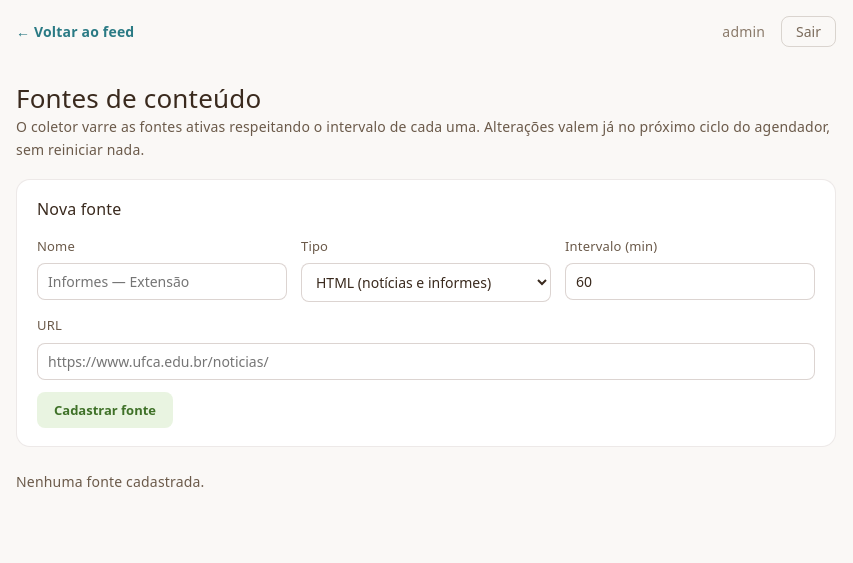
Scenario: Fontes — cadastro › mostra o erro de validação vindo do backend
Expected: the text "Nenhuma fonte cadastrada." is shown, [16,472,204,491]
Type "X" into the field labelled "Nome" at (162, 282), box [37,263,287,300]
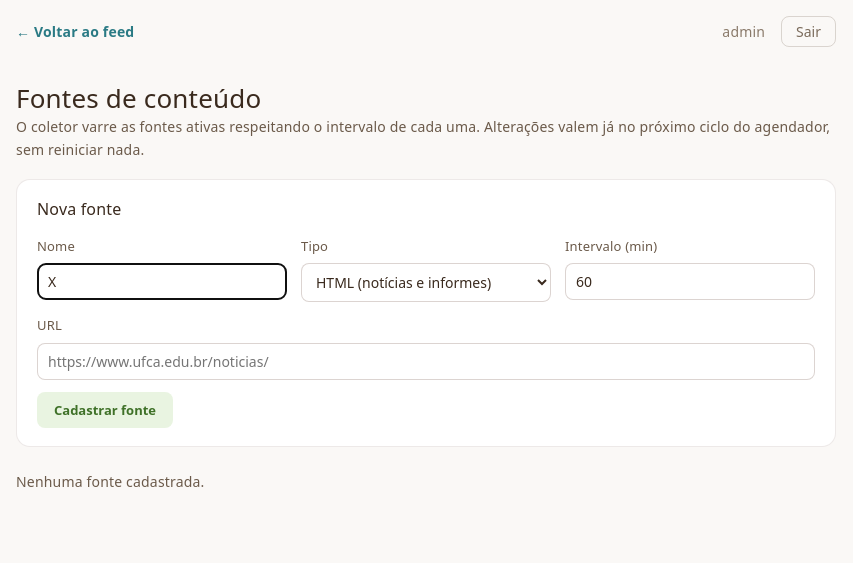
Type "https://x.test/" into the field labelled "URL" at (426, 361), box [37,343,815,380]
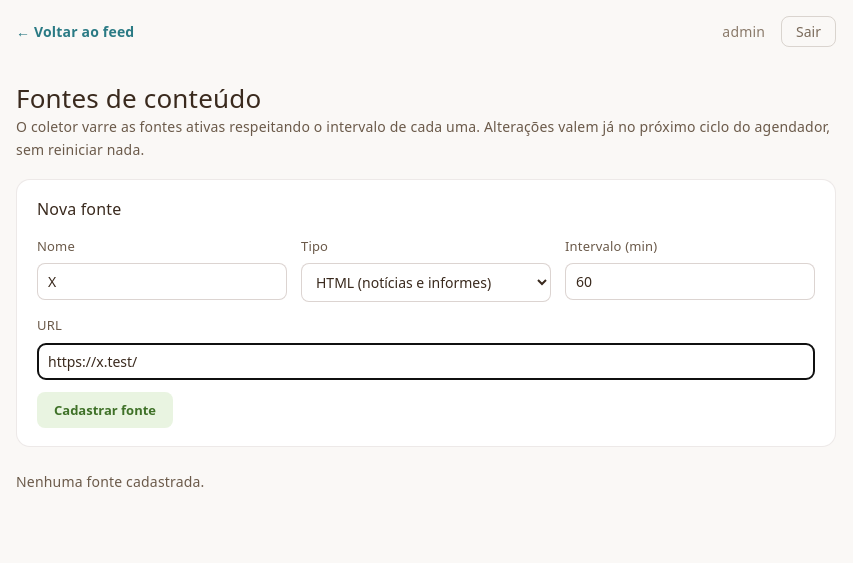
Click the button "Cadastrar fonte" at (105, 410), box [37,392,173,428]
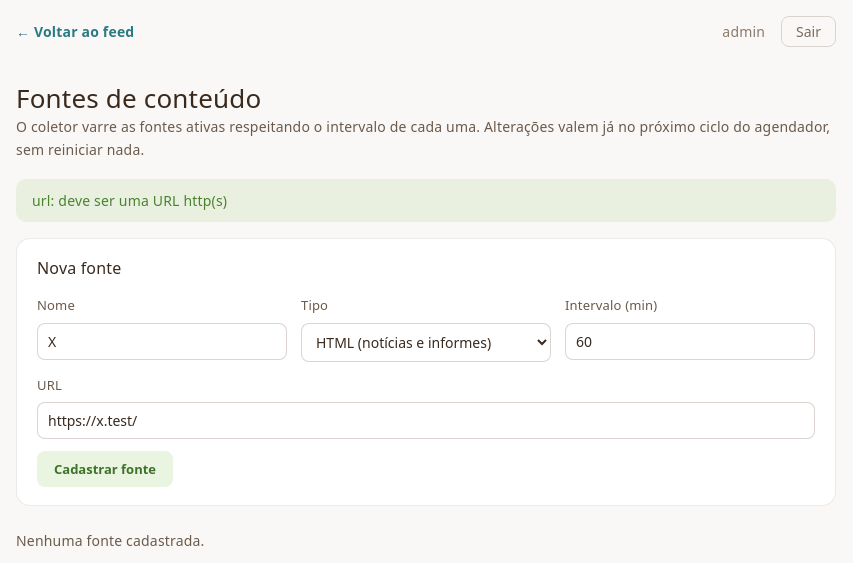
Expected: the message reads "url: deve ser uma URL http(s)", [32,191,227,210]
